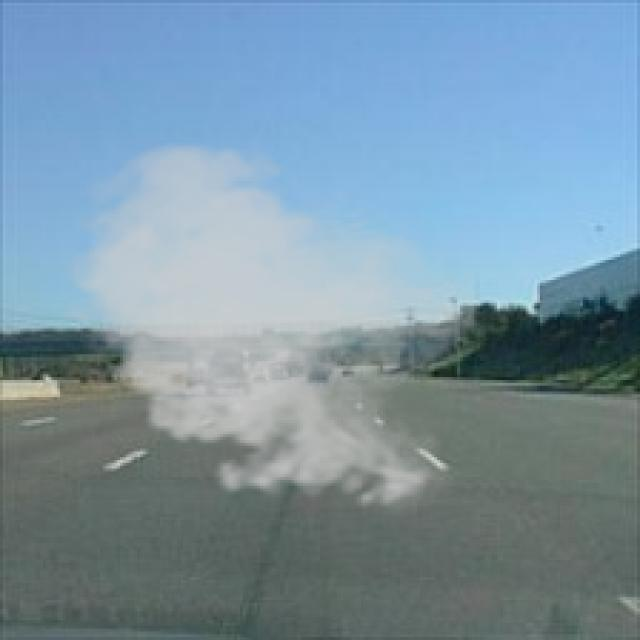smoke: (54, 134, 480, 520)
